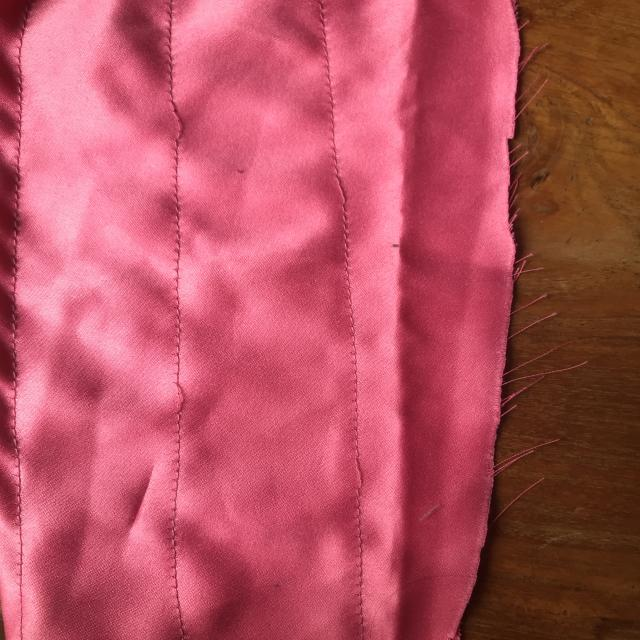skip: (143, 86, 215, 147), (332, 443, 398, 503), (162, 371, 202, 431), (322, 164, 363, 222)
